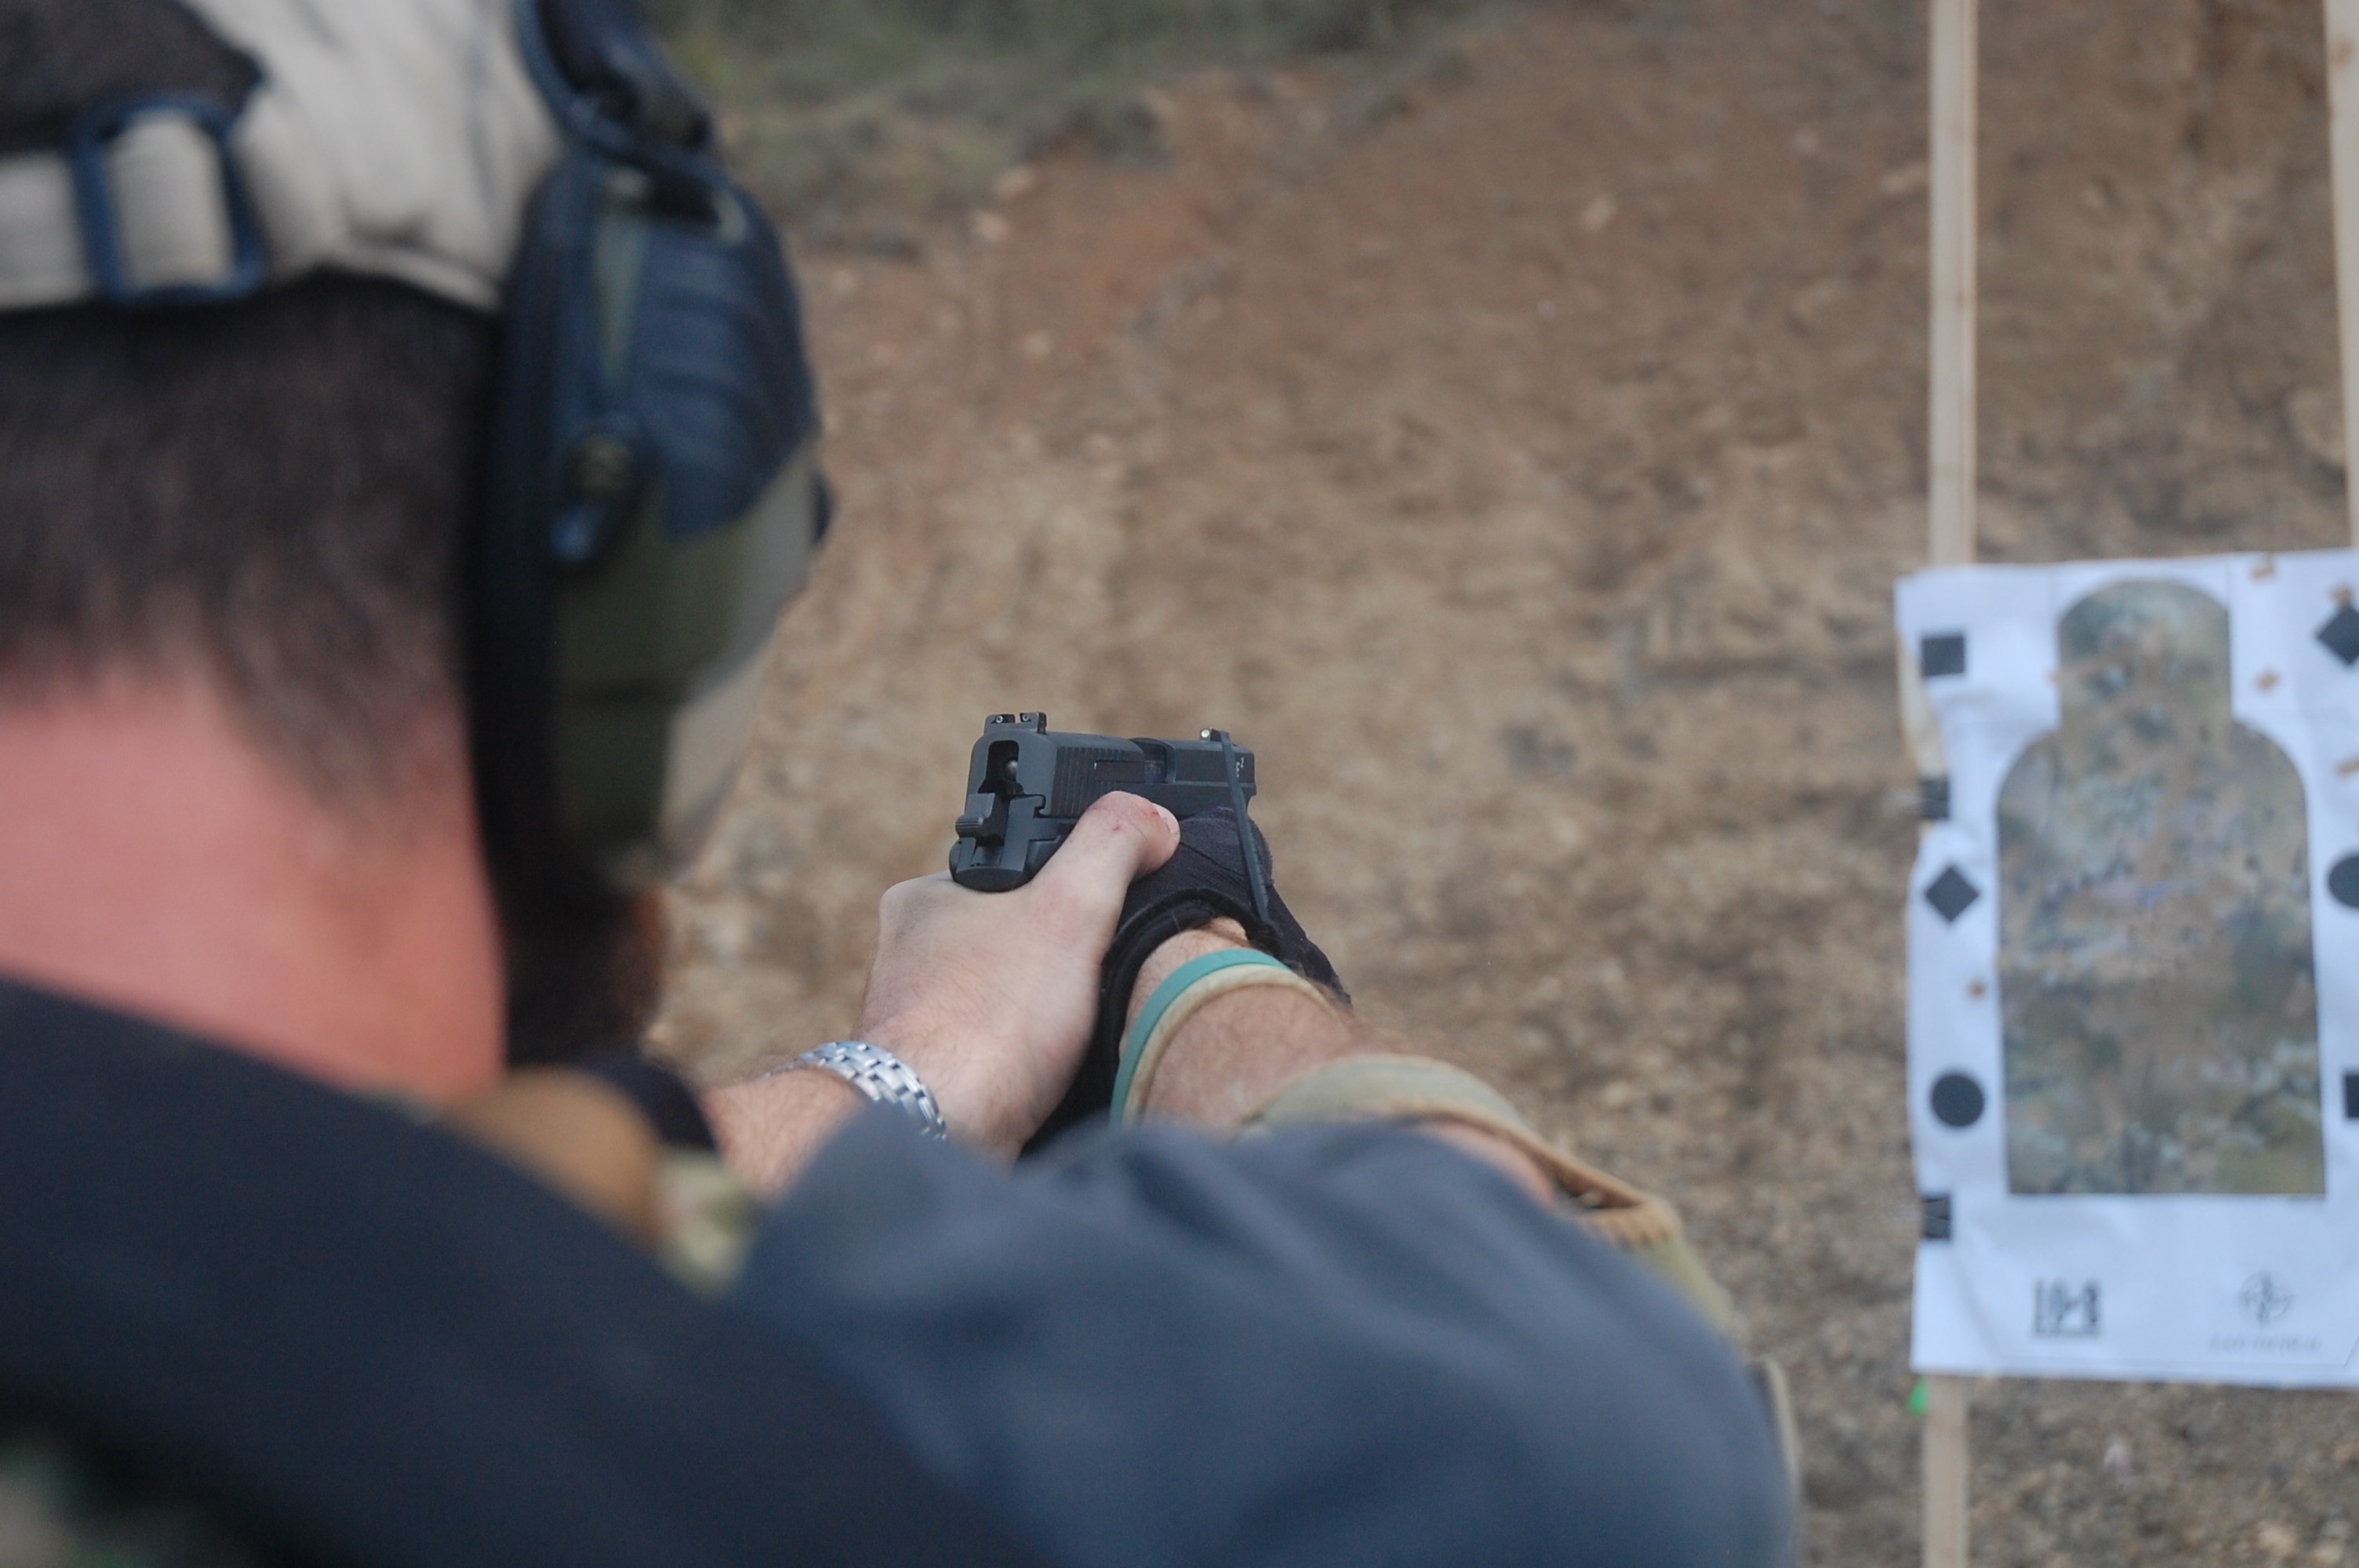Gun: (963, 707, 1278, 903)
